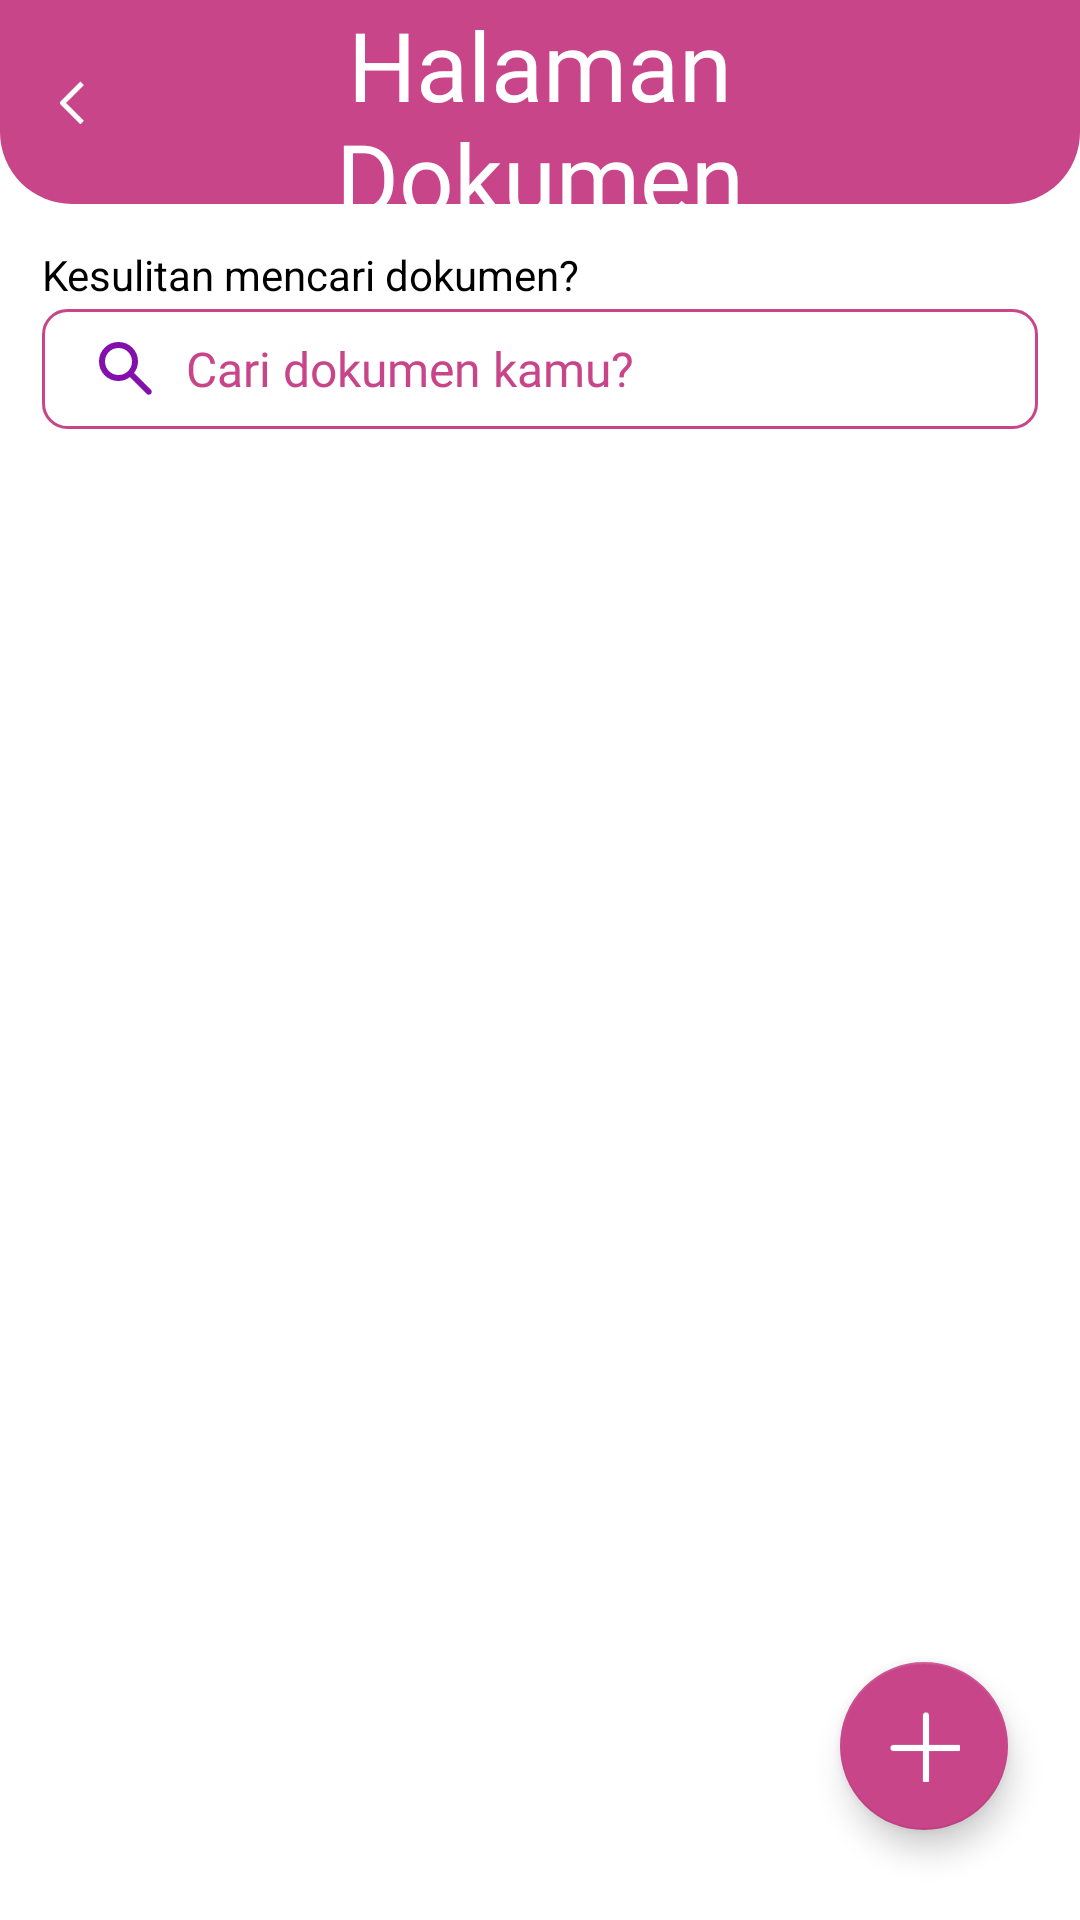

Locate icon controls on the screen. Image size 1080 x 1920, boxes as (left=x1, top=y1, right=x2, bottom=y2).
Kembali: (left=60, top=81, right=84, bottom=124)
Tambah dokumen: (left=840, top=1662, right=1008, bottom=1830)
